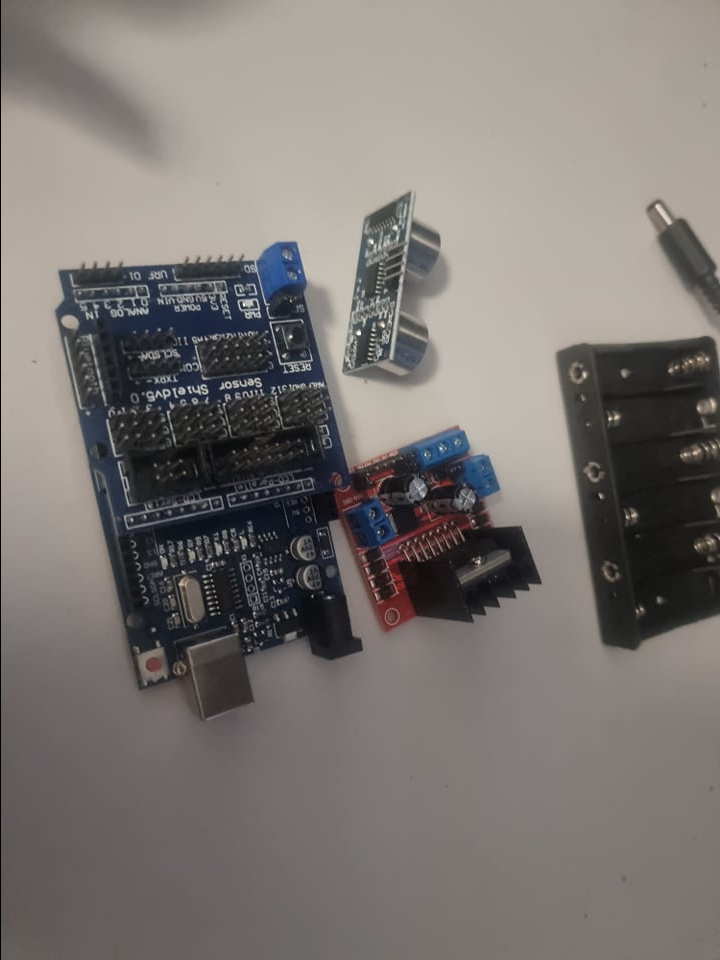5V EXPANSION: (67, 228, 351, 522)
BATTERY BOX: (555, 333, 716, 651)
MOTOR: (333, 434, 540, 656)
SENSOR: (333, 186, 453, 384)
UNO R3: (120, 533, 361, 748)
